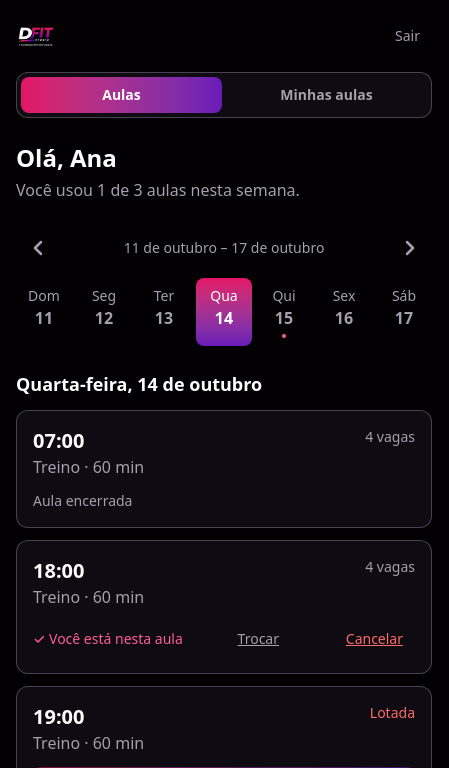
Scenario: week view › explains when the class already started and cannot be cancelled
Click the button "Cancelar" at coordinates (374, 639), box 334,621 -> 415,657
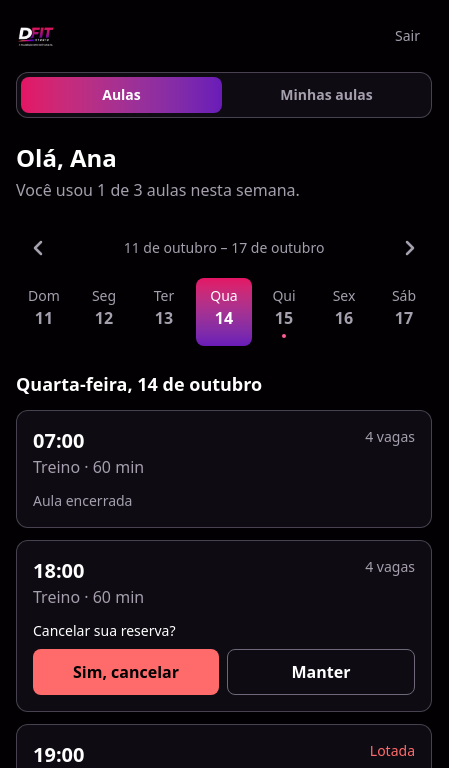
Click the button "Sim, cancelar" at coordinates (126, 672), box 33,649 -> 219,695
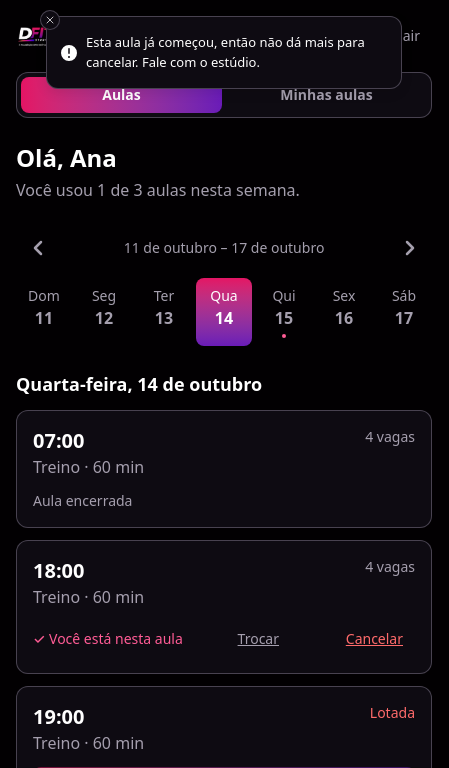
Expected: the text "Esta aula já começou" is shown, 86,33 -> 365,70
Expected: the text "✓ Você está nesta aula" is shown, 33,629 -> 183,649
